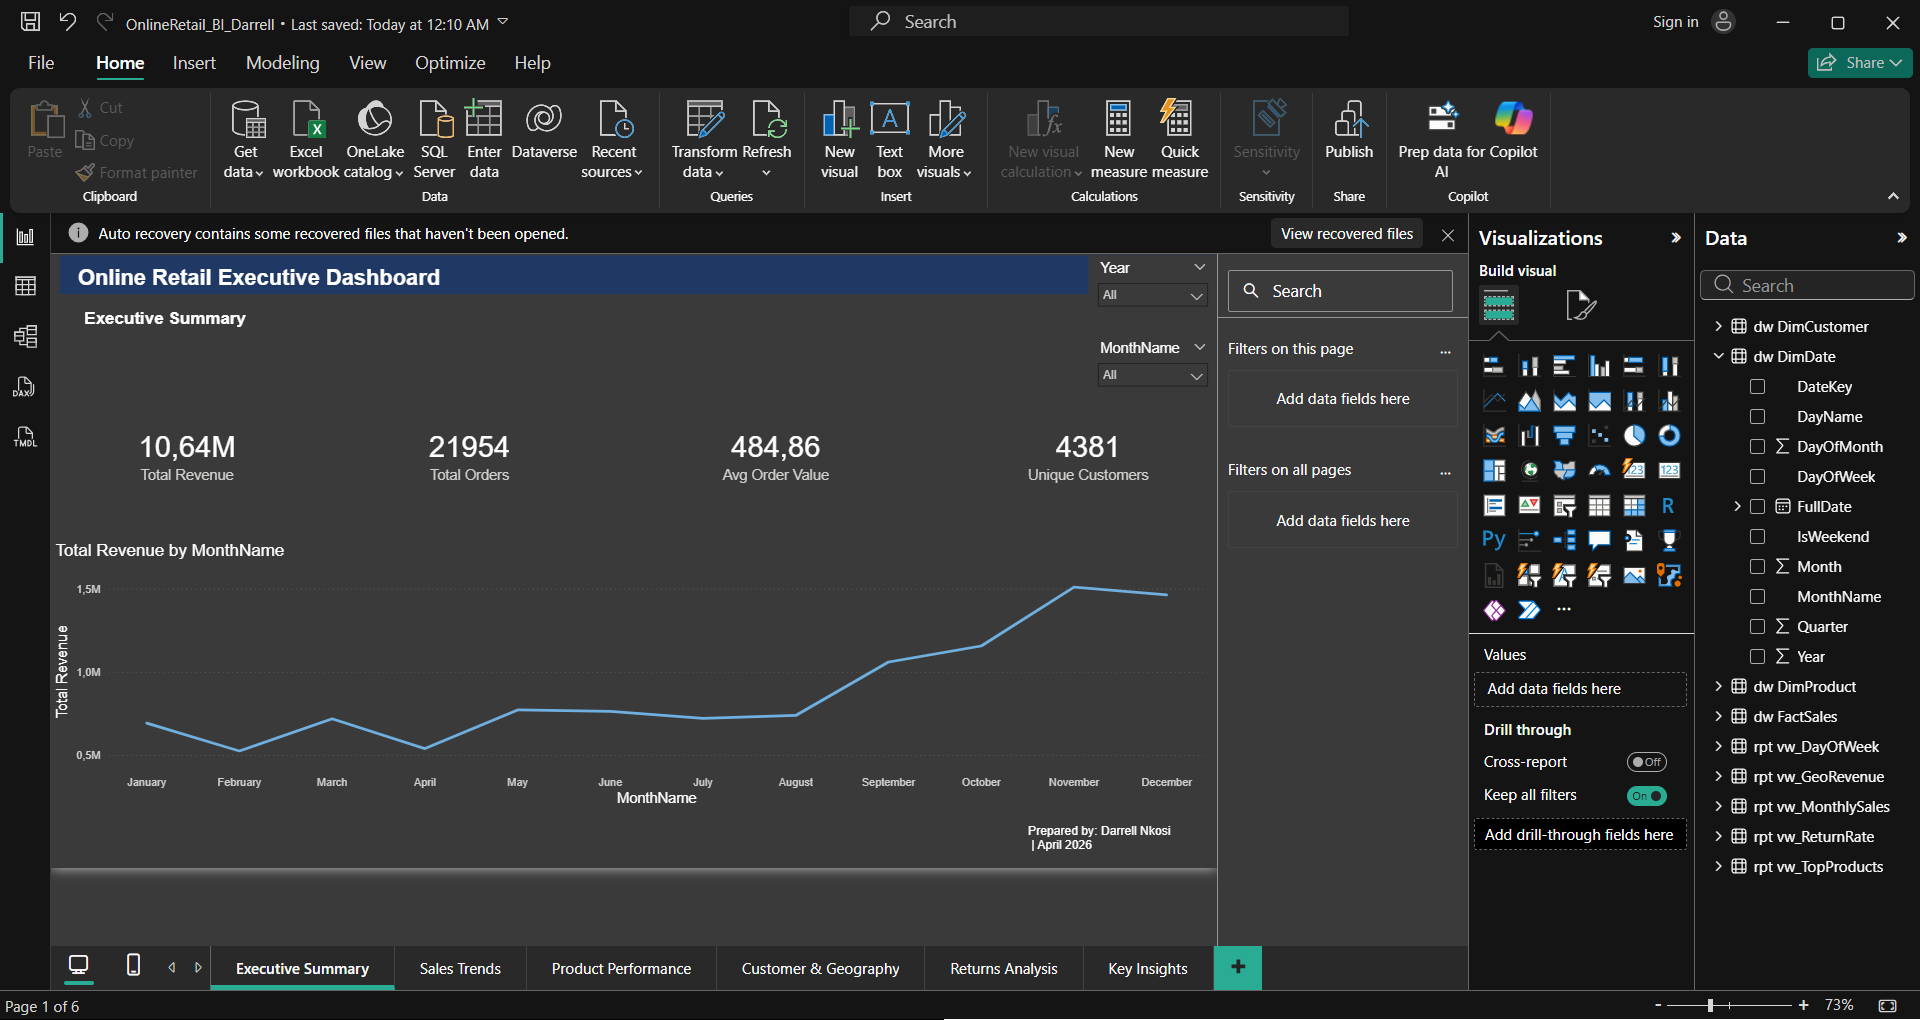

The dashboard page shown, as its layout file describes it:
{"tool":"powerbi","page":{"name":"Executive Summary","canvas":[1280,720],"ordinal":0},"visuals":[{"type":"card","fields":{"Values":["dw FactSales.Total Revenue"]},"box":[9.6,209.9,279.9,109.8],"z":0},{"type":"card","fields":{"Values":["dw FactSales.Total Orders"]},"box":[319.7,209.9,279.9,109.8],"z":1000},{"type":"card","fields":{"Values":["dw FactSales.Avg Order Value"]},"box":[655.9,209.9,279.9,109.8],"z":2000},{"type":"card","fields":{"Values":["dw FactSales.Unique Customers"]},"box":[999,209.9,279.9,109.8],"z":3000},{"type":"lineChart","fields":{"Y":["dw FactSales.Total Revenue"],"Category":["dw DimDate.MonthName"]},"box":[0,359.5,1270.7,296.4],"z":4000},{"type":"textbox","box":[9.6,46.7,1269.3,42.5],"z":5000},{"type":"textbox","box":[31.6,100.2,1247.3,48],"z":6000},{"type":"textbox","box":[1067.6,665.5,212.7,54.9],"z":7000},{"type":"slicer","fields":{"Values":["dw DimDate.Year"]},"box":[1138.9,46.7,141.3,87.8],"z":8000},{"type":"slicer","fields":{"Values":["dw DimDate.MonthName"]},"box":[1138.9,134.5,141.3,85.1],"z":9000}]}

Visuals, with their boxes on the page's 1280x720 design canvas (x1, y1, x2, y2). These are canvas units, not pixel positions in the 1920x1020 screenshot, which may show the page scaled, cropped or inside an application window:
card - dw FactSales.Total Revenue: {"x1": 10, "y1": 210, "x2": 290, "y2": 320}
card - dw FactSales.Total Orders: {"x1": 320, "y1": 210, "x2": 600, "y2": 320}
card - dw FactSales.Avg Order Value: {"x1": 656, "y1": 210, "x2": 936, "y2": 320}
card - dw FactSales.Unique Customers: {"x1": 999, "y1": 210, "x2": 1279, "y2": 320}
lineChart - dw FactSales.Total Revenue x dw DimDate.MonthName: {"x1": 0, "y1": 360, "x2": 1271, "y2": 656}
textbox: {"x1": 10, "y1": 47, "x2": 1279, "y2": 89}
textbox: {"x1": 32, "y1": 100, "x2": 1279, "y2": 148}
textbox: {"x1": 1068, "y1": 666, "x2": 1280, "y2": 720}
slicer - dw DimDate.Year: {"x1": 1139, "y1": 47, "x2": 1280, "y2": 134}
slicer - dw DimDate.MonthName: {"x1": 1139, "y1": 134, "x2": 1280, "y2": 220}
